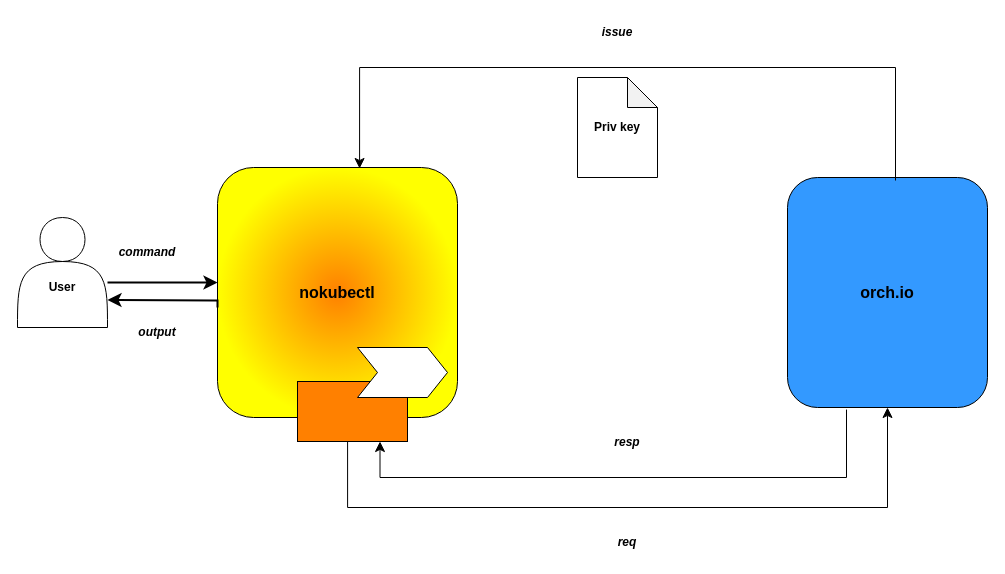
Some shapes in this 1005 by 574 pixel diagram are drawn without their labels. The centre of each missing label's shape, as x and y in pixels:
"APIX" goes at pixel 352 411.
"format & verification" goes at pixel 402 372.
